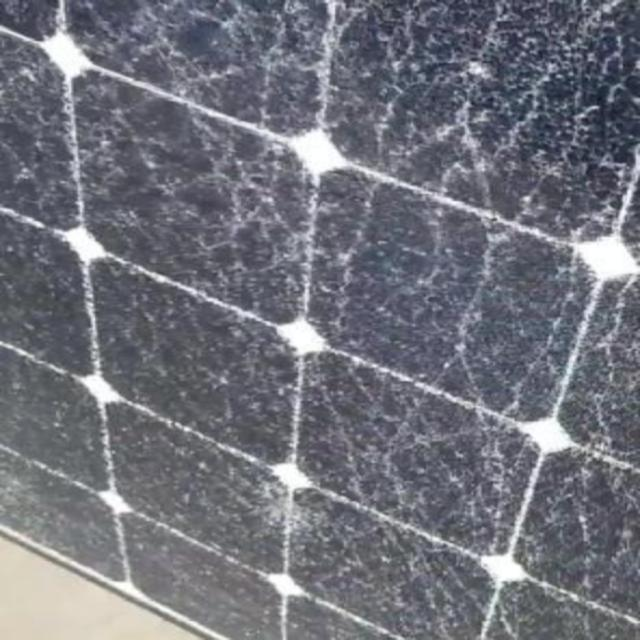cracked: (2, 3, 636, 640)
